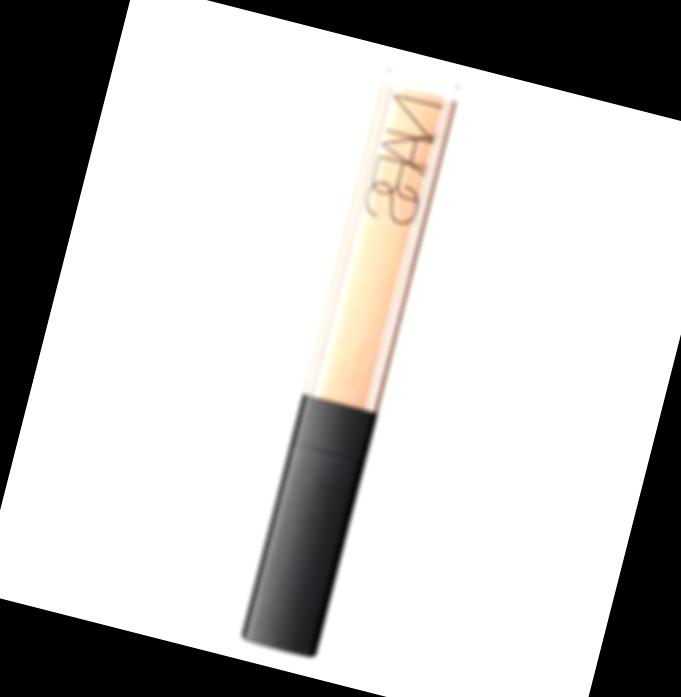cosmetic: (240, 62, 465, 659)
